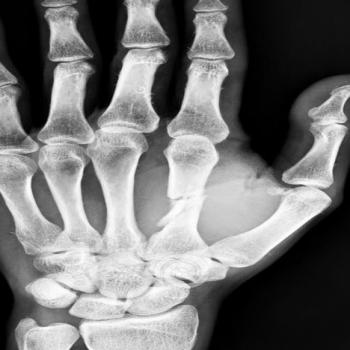Fracture: (156, 187, 219, 236)
